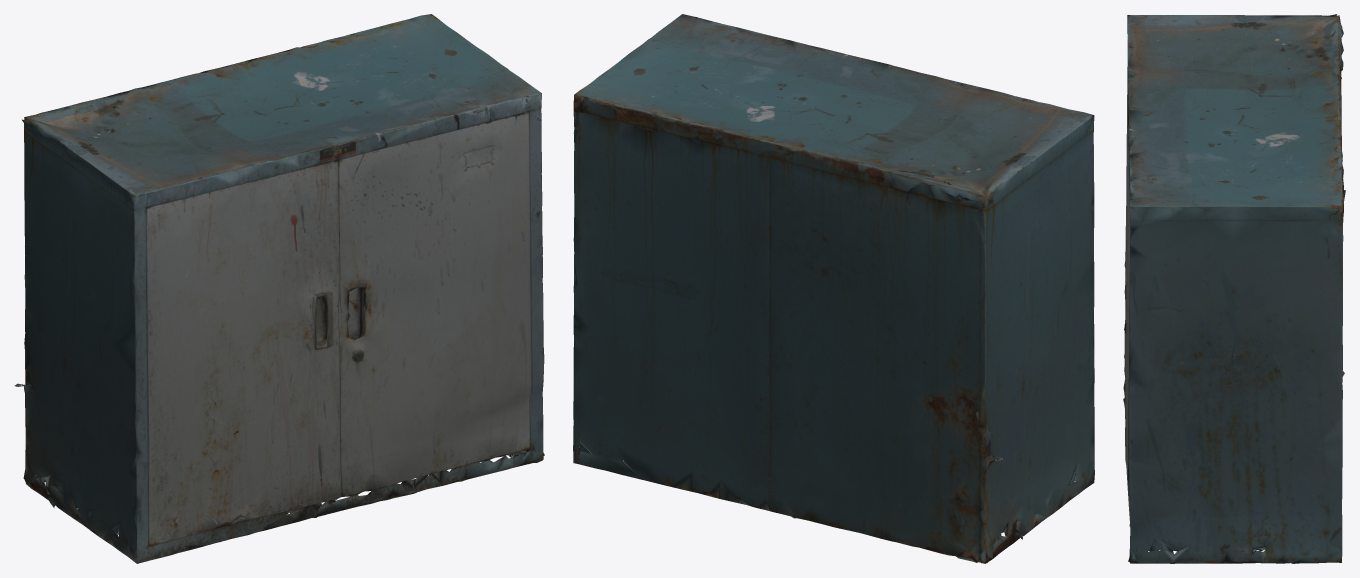
The model's file is PX_Old_Tin_Cabinet_01_LOD2.fbx.
3 renders of one model, left to right at view 1: azimuth 30°, elevation 25°; view 2: azimuth 150°, elevation 25°; view 3: azimuth 270°, elevation 25°, orthographic. The views are drawn at different scales.
Parts seen in each view (by area): view 1: PX_Old_Tin_Cabinet_01_LOD2; view 2: PX_Old_Tin_Cabinet_01_LOD2; view 3: PX_Old_Tin_Cabinet_01_LOD2.
Part boxes in pixels (x1,y1,x2,y2): PX_Old_Tin_Cabinet_01_LOD2: (14, 14, 544, 563); PX_Old_Tin_Cabinet_01_LOD2: (573, 14, 1094, 563); PX_Old_Tin_Cabinet_01_LOD2: (1123, 14, 1345, 563).
Bounding box in the file's own units: 80.14 × 66.58 × 37.2.
